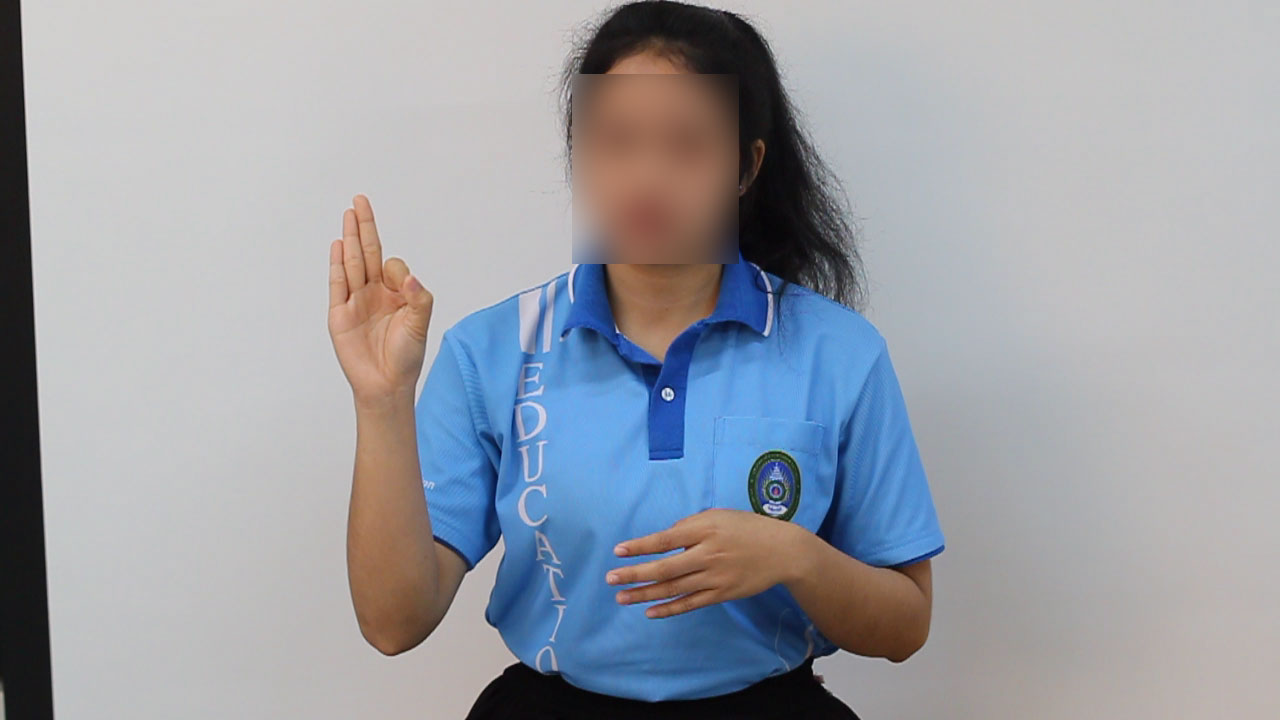for: (312, 182, 444, 441)
